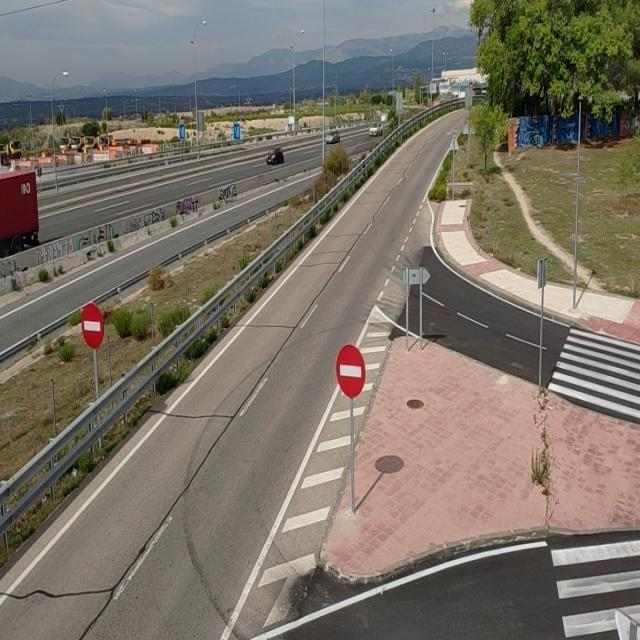Car: (322, 120, 347, 150), (262, 145, 287, 170), (366, 114, 388, 137)
Truck: (0, 170, 54, 248)
